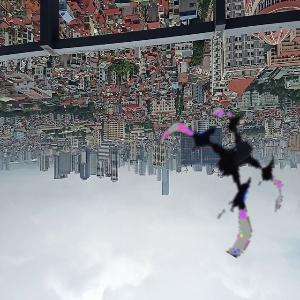drone: (152, 95, 297, 240)
